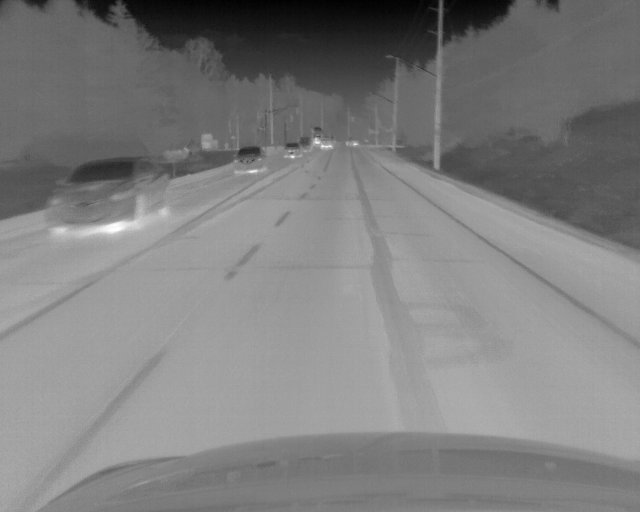car: (44, 154, 172, 233), (233, 145, 265, 174), (282, 140, 301, 161), (311, 127, 322, 147), (320, 135, 333, 151), (300, 135, 312, 152), (344, 137, 358, 148)
